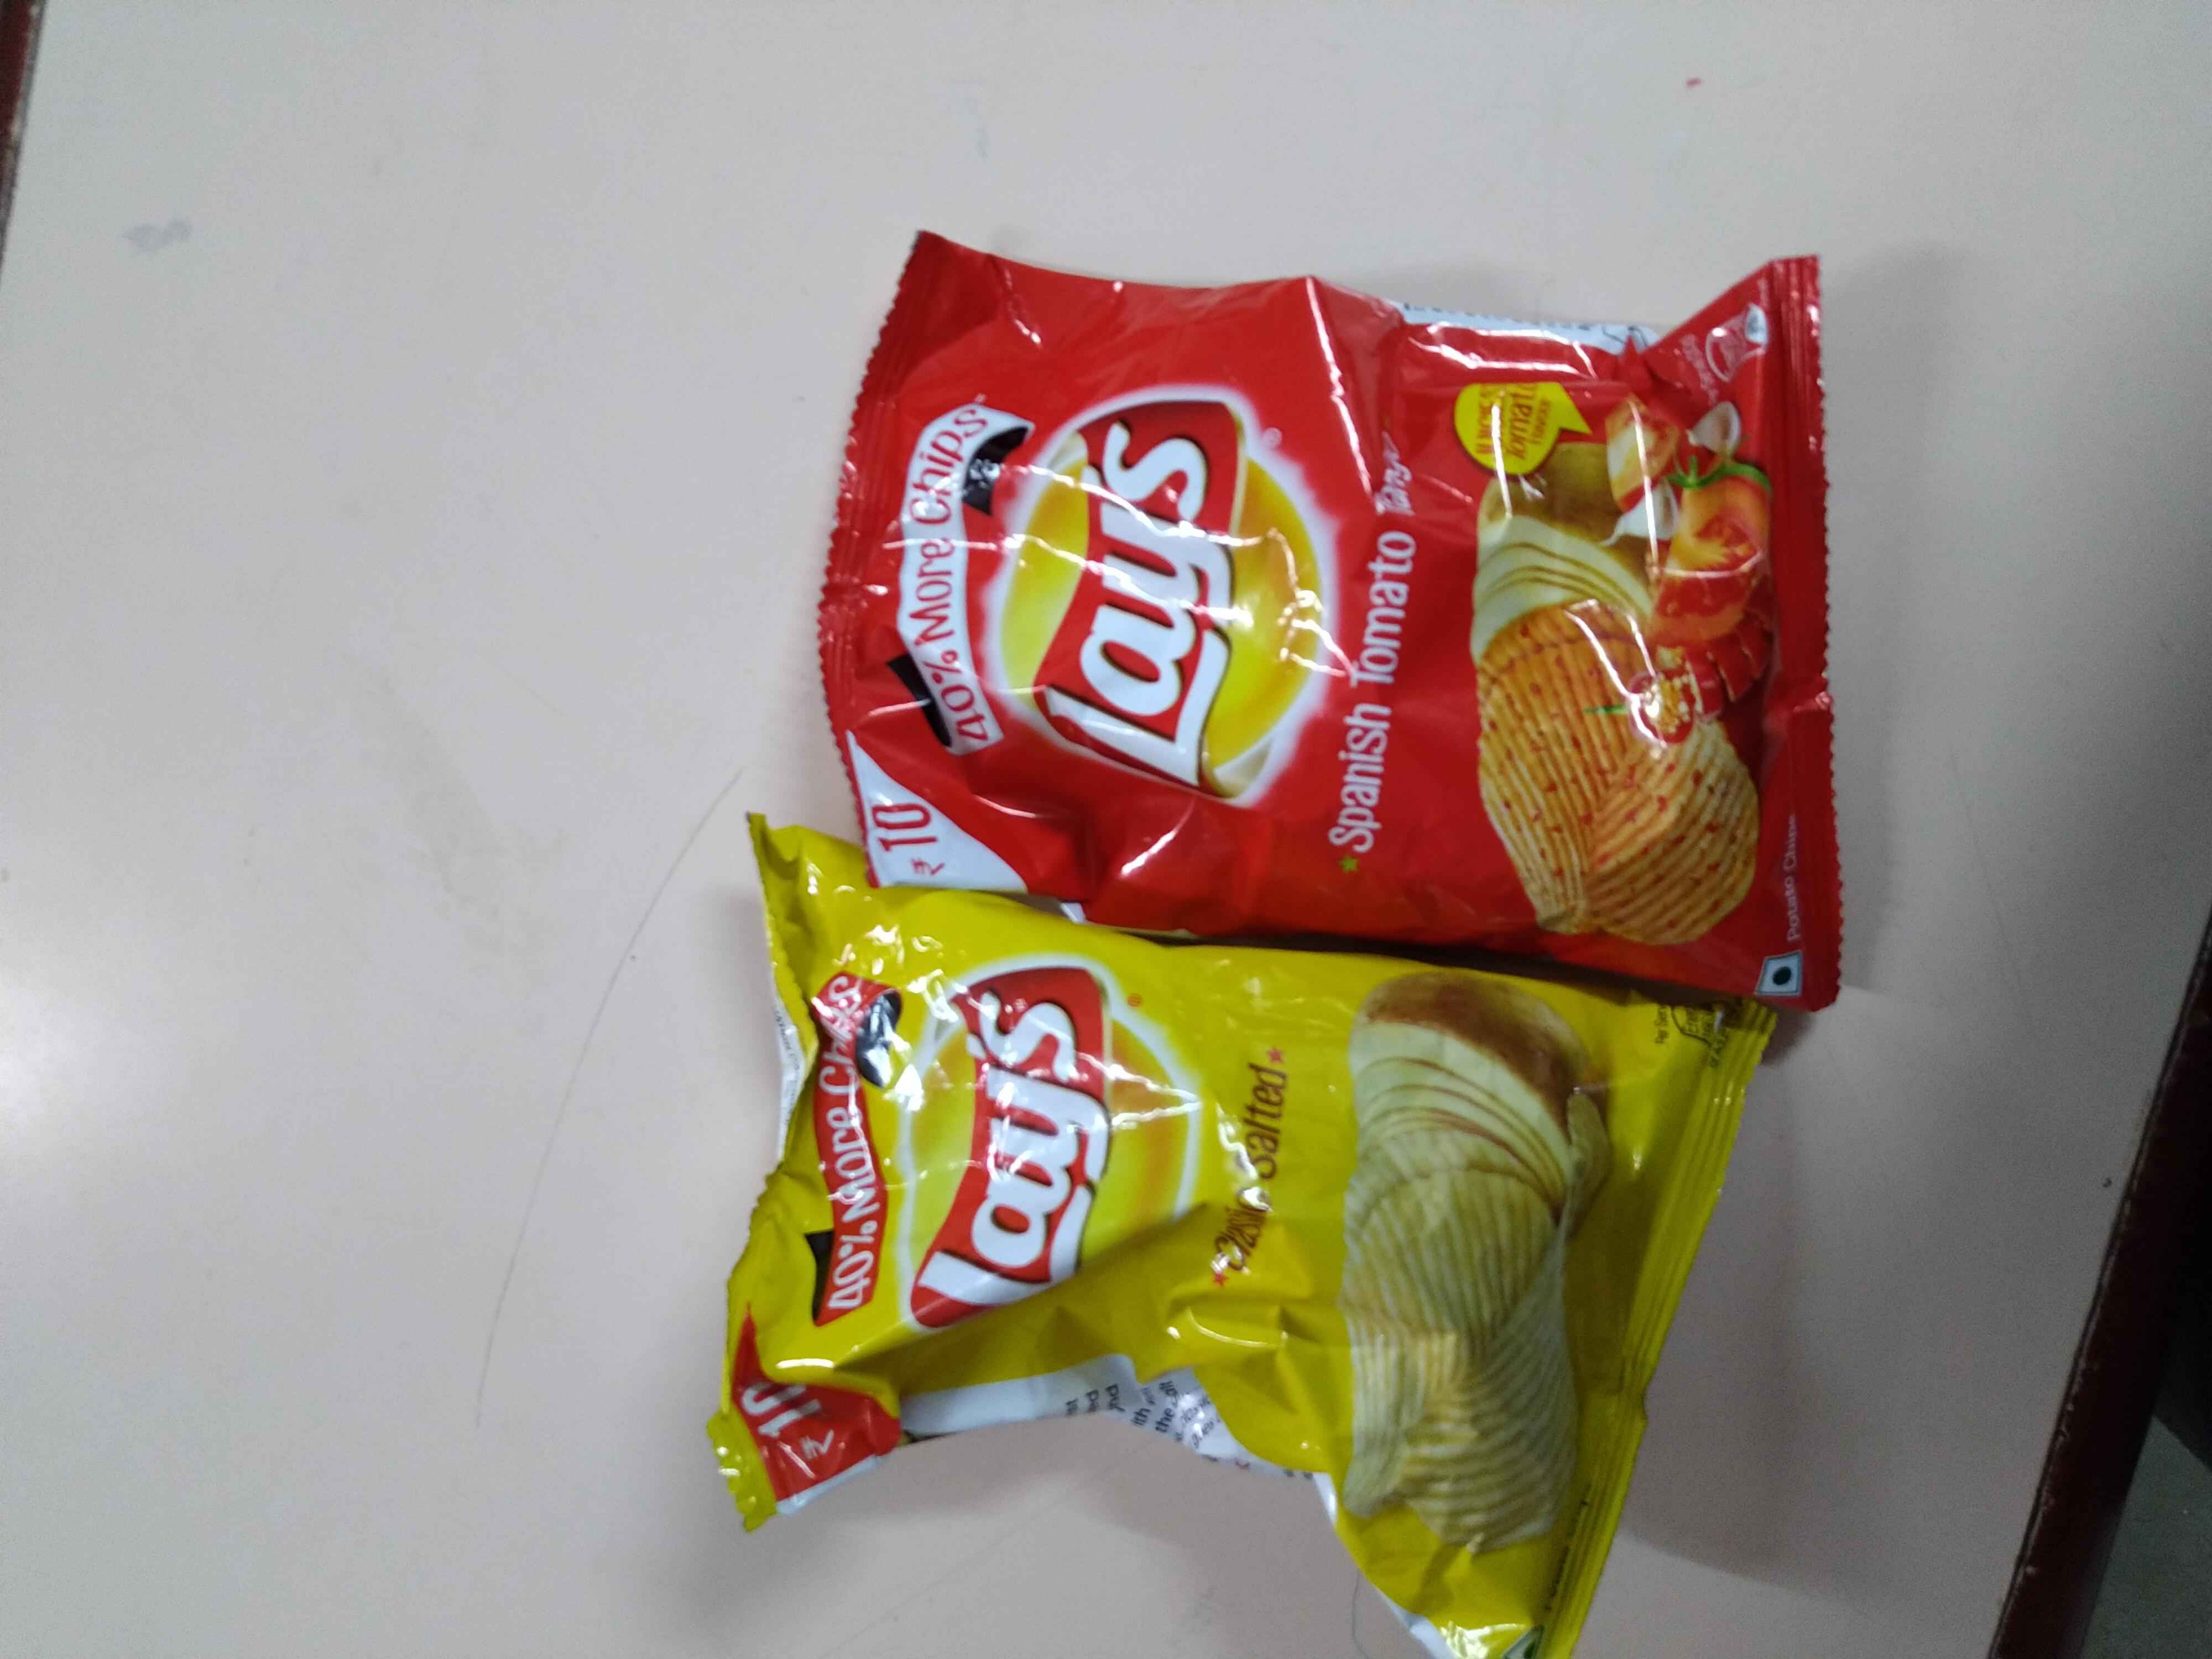Lays: (982, 366, 1345, 793), (902, 965, 1209, 1358)
